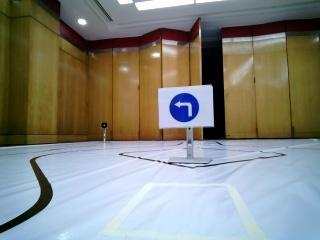left: (161, 88, 208, 129)
